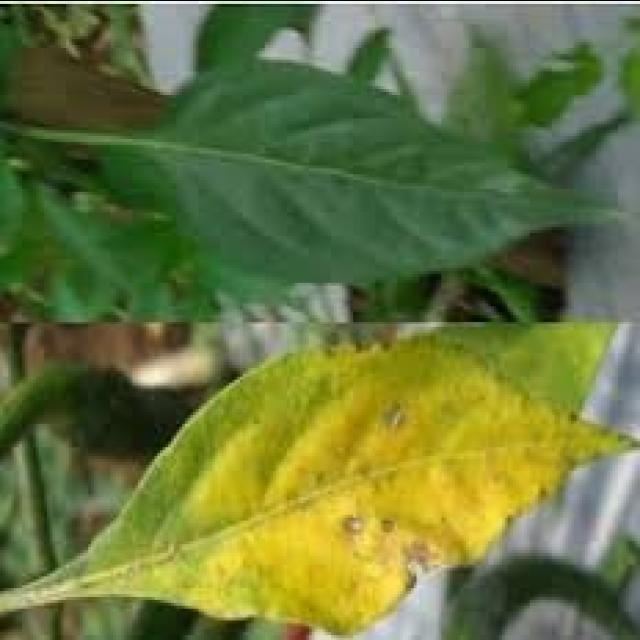virus_kuning: (70, 346, 342, 640)
